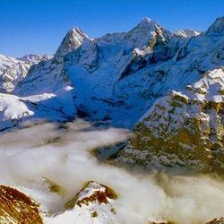neutral: (2, 7, 224, 223)
